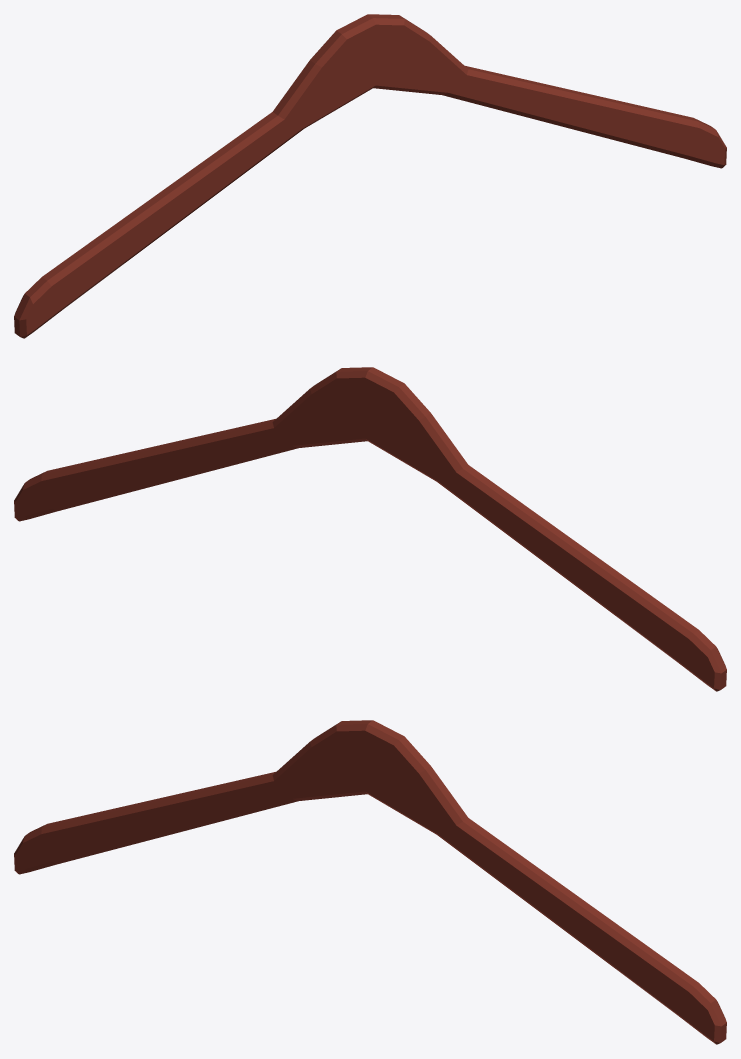
Rendered from sketchfab-hangers-and-tee-shirt.05519b4b.glb.
The picture shows the model from 3 angles, top to bottom: view 1: azimuth 30°, elevation 25°; view 2: azimuth 150°, elevation 25°; view 3: azimuth 330°, elevation 25°; orthographic projection.
Visible parts, largest first — view 1: Object_4; view 2: Object_4; view 3: Object_4.
Boxes of the visible parts, bbox=[...] form: Object_4: bbox=[14, 14, 726, 338]; Object_4: bbox=[14, 367, 726, 691]; Object_4: bbox=[14, 720, 726, 1044].
Bounding box in the file's own units: 4.82 × 1.53 × 0.123.
